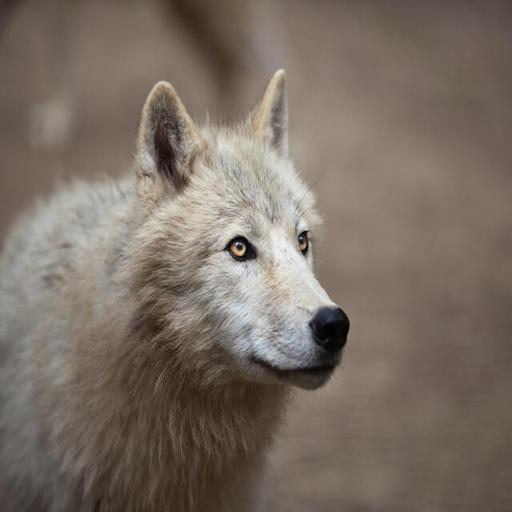Wolf: (0, 56, 363, 512)
